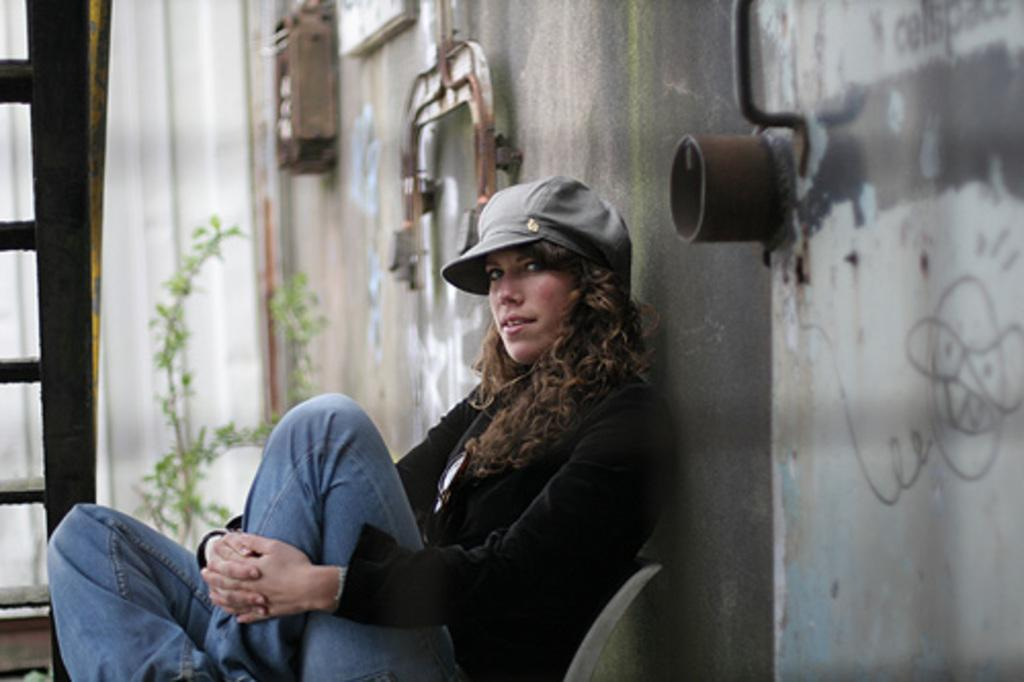Hat: (442, 180, 637, 310)
